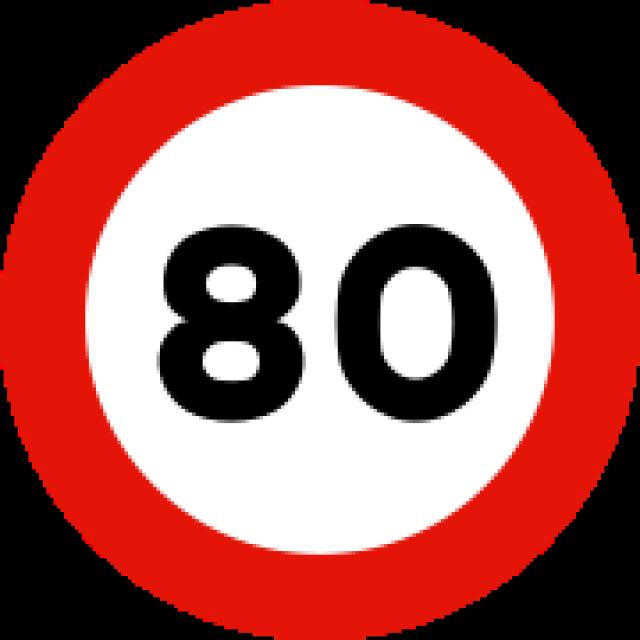Speed Limit -80-: (160, 223, 498, 422)
